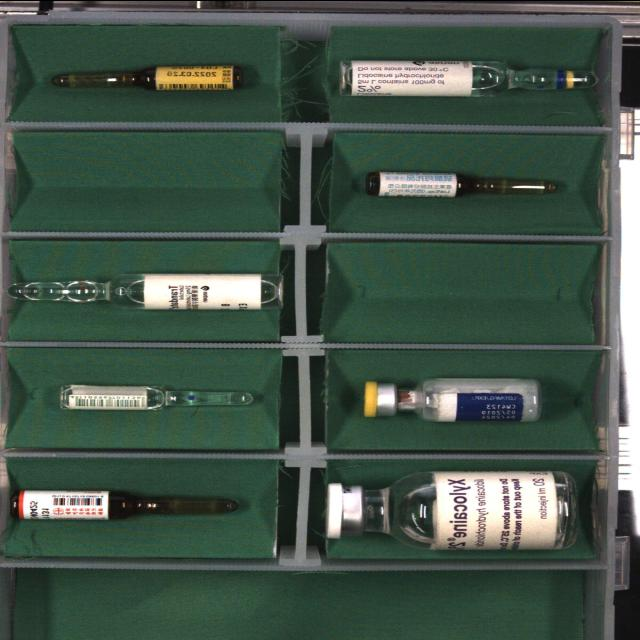Vials: (326, 470, 577, 549), (363, 377, 541, 421)
